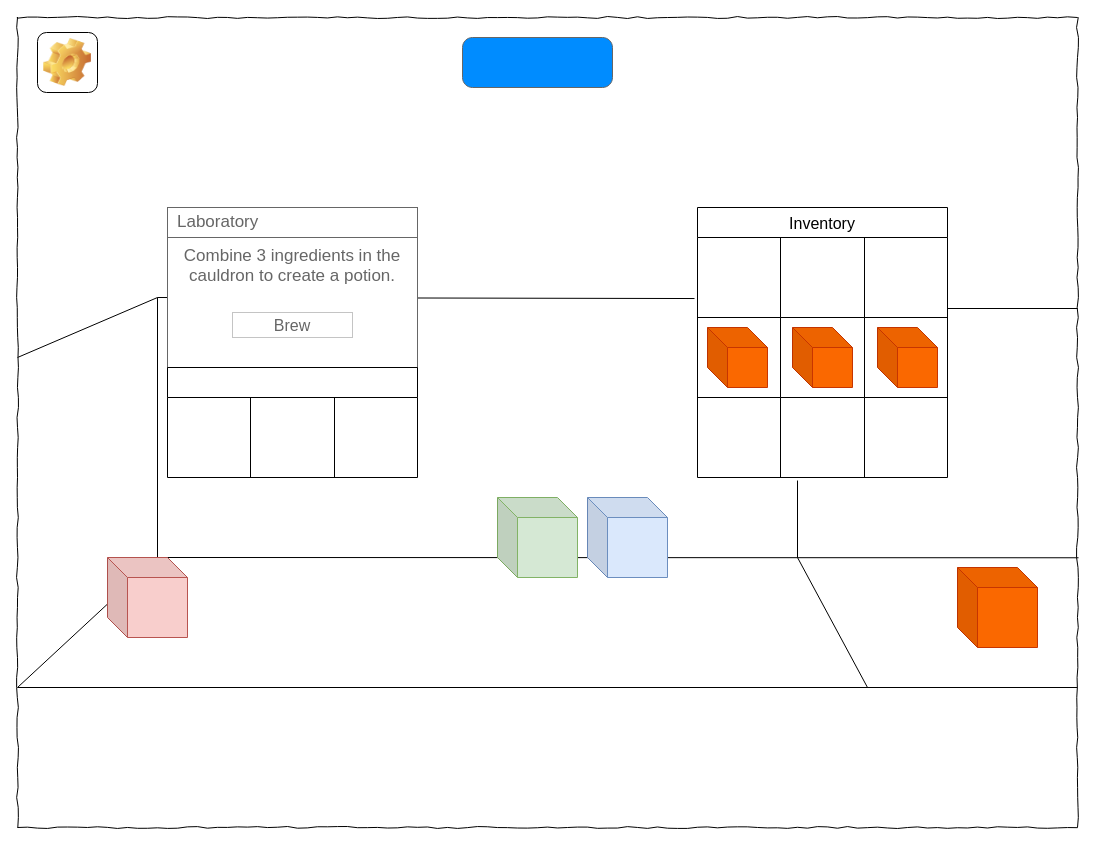
The diagram is 1098 pixels wide and 845 high, and some of its shapes have lost their labels. The shapes that lost their labels are listed below. From the top down, each one's centre as x and y in pixels, then its label:
(537,62): End the day
(292,422): Cauldron
